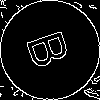B: (25, 25, 80, 71)
